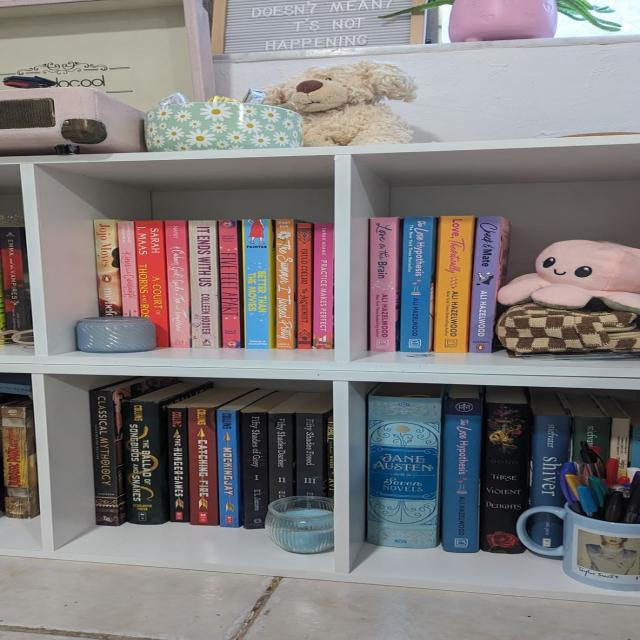book: (367, 395, 441, 548), (480, 404, 529, 553), (442, 399, 482, 553), (433, 216, 475, 353), (469, 217, 509, 353), (399, 217, 437, 353), (122, 399, 162, 522), (134, 221, 168, 347), (243, 219, 275, 349), (369, 218, 400, 352), (189, 221, 220, 348), (90, 390, 118, 526), (530, 414, 570, 507), (189, 408, 220, 525), (240, 412, 267, 528), (166, 221, 190, 347), (219, 221, 242, 348), (276, 220, 296, 349), (313, 224, 333, 349), (94, 220, 120, 316), (166, 406, 187, 523), (268, 412, 295, 502), (220, 411, 240, 527), (297, 413, 324, 496), (117, 222, 140, 317), (297, 223, 314, 349), (572, 416, 609, 460), (611, 417, 629, 461)
candle: (265, 496, 332, 554), (76, 318, 155, 353)
